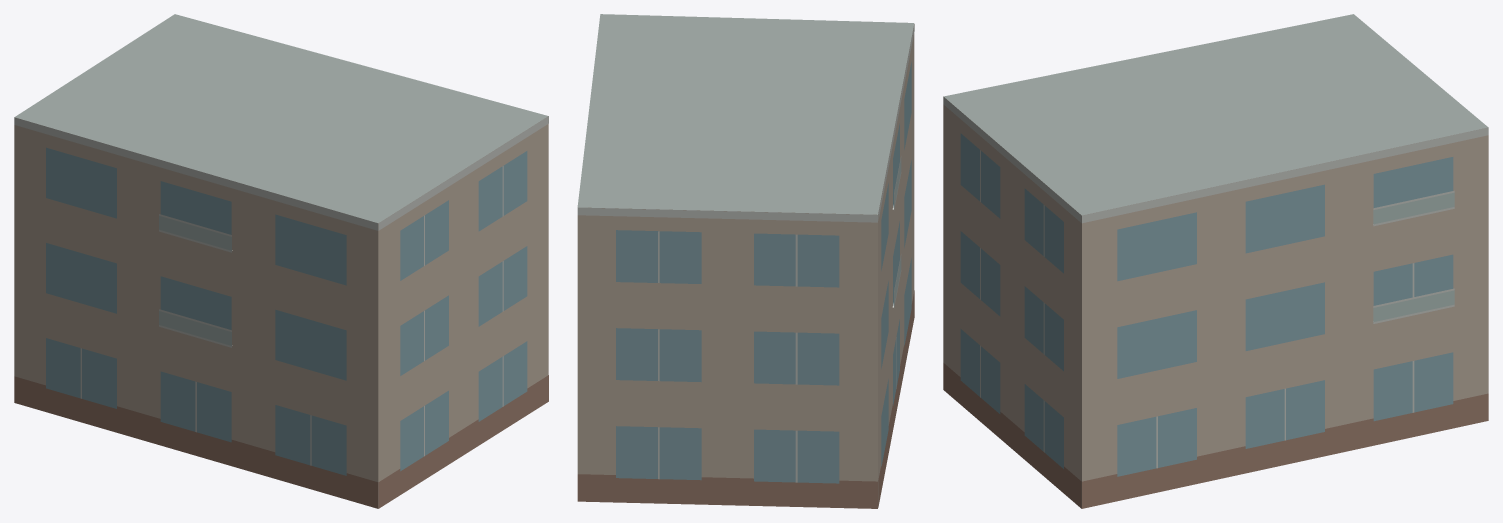
File: survey-upis-32778412.glb
3 views of the same model, side by side, from view 1: azimuth 30°, elevation 25°; view 2: azimuth 150°, elevation 25°; view 3: azimuth 270°, elevation 25° (orthographic). The views are drawn at different scales.
Visible parts, largest first — view 1: survey-upis-32778412.tmp; view 2: survey-upis-32778412.tmp; view 3: survey-upis-32778412.tmp.
Boxes of the visible parts, left/top/right/bottom form: survey-upis-32778412.tmp: left=14, top=14, right=548, bottom=508; survey-upis-32778412.tmp: left=577, top=14, right=914, bottom=508; survey-upis-32778412.tmp: left=943, top=14, right=1488, bottom=508.
Size of the model in its own units: 13.49 by 9.15 by 15.42.
